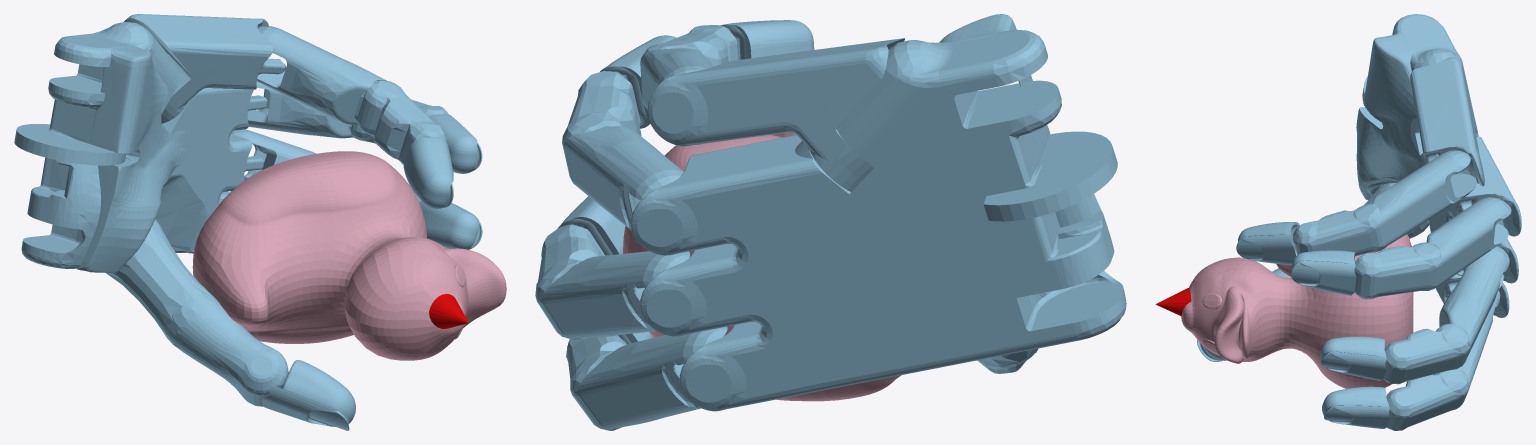
3 views of the same model, side by side, from view 1: azimuth 30°, elevation 25°; view 2: azimuth 150°, elevation 25°; view 3: azimuth 270°, elevation 25° (orthographic). The views are drawn at different scales.
Visible parts, largest first — view 1: world, rubber_duck.stl; view 2: world, rubber_duck.stl; view 3: world, rubber_duck.stl.
Part boxes in pixels (left/top/right/bottom): world: left=14, top=14, right=482, bottom=430; rubber_duck.stl: left=192, top=151, right=506, bottom=360; world: left=535, top=14, right=1126, bottom=430; rubber_duck.stl: left=623, top=132, right=901, bottom=401; world: left=1155, top=14, right=1521, bottom=430; rubber_duck.stl: left=1181, top=234, right=1413, bottom=388.
Size of the model in its own units: 0.1657 by 0.1297 by 0.1512.
